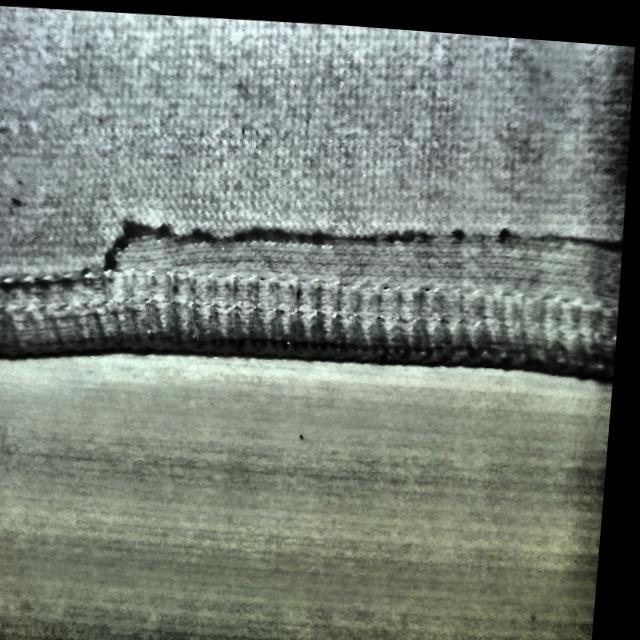seam: (77, 137, 626, 410)
